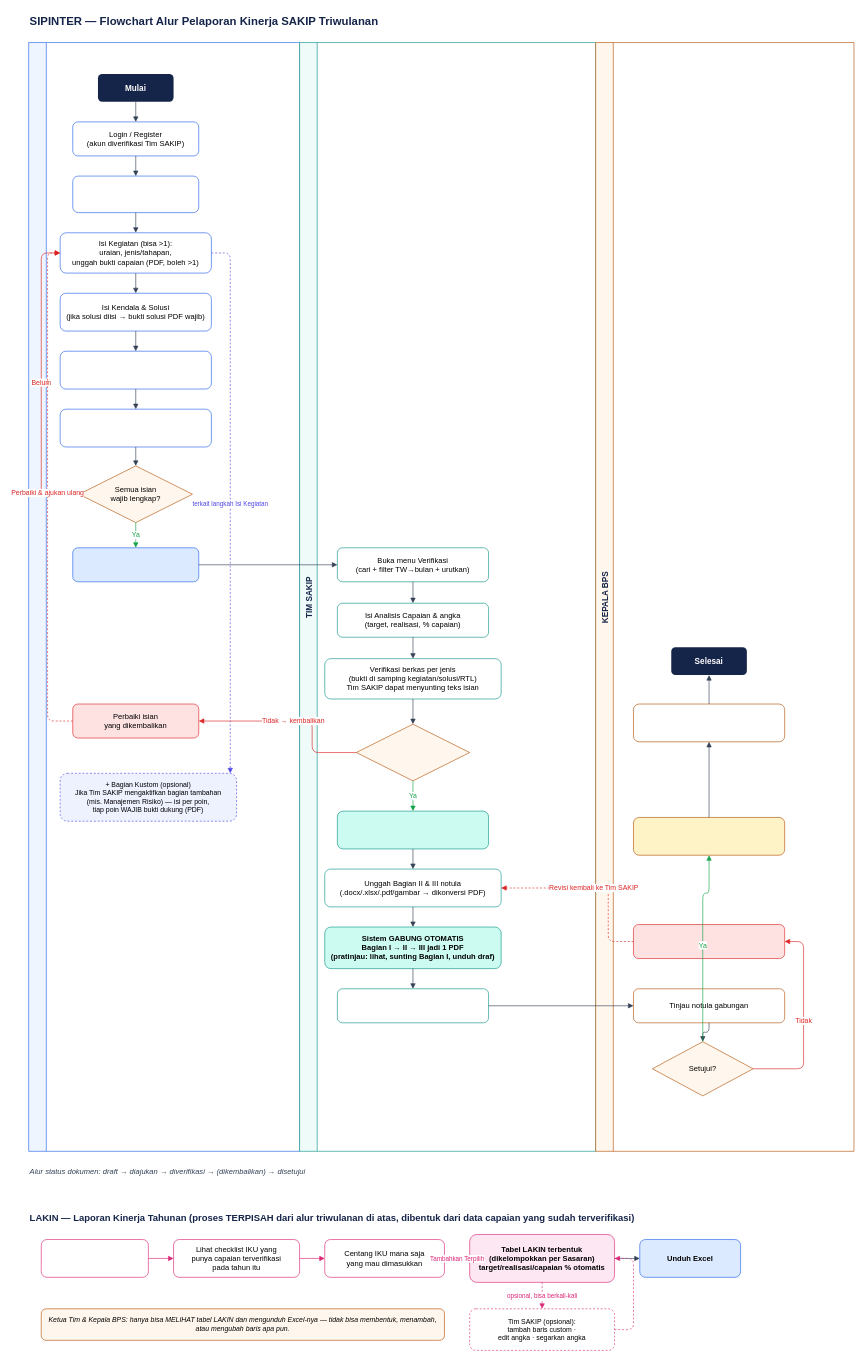
Some shapes in this 865 by 1361 pixel diagram are drawn without their labels. Here are the shapes that lost their labels. From the top down, the box of each, then its label:
(72, 175, 199, 213): Pilih periode: bulan & tahun (TW dihitung otomatis)
(60, 351, 211, 389): Isi Evaluasi RTL periode sebelumnya (realisasi WAJIB, min. 1 poin/bulan)
(60, 409, 211, 447): Isi Rencana Kegiatan ke Depan (batas waktu otomatis = akhir TW berikutnya)
(72, 547, 199, 582): Ajukan ke Tim SAKIP (status: diajukan)
(28, 42, 300, 1151): KETUA TIM
(633, 703, 785, 742): Unduh final & arsip notula ke Drive institusi (struktur folder triwulanan)
(356, 724, 470, 781): Semua berkas sesuai?
(337, 810, 489, 849): Tandai terverifikasi → masuk ke Bagian I notula (status: diverifikasi)
(633, 817, 785, 855): Setujui & bubuhkan TTD elektronik status: disetujui
(633, 924, 785, 959): Minta revisi (kembali ke Tim SAKIP)
(337, 988, 489, 1023): Kirim notula gabungan ke Kepala BPS
(41, 1239, 148, 1277): Tim SAKIP: pilih tahun laporan
